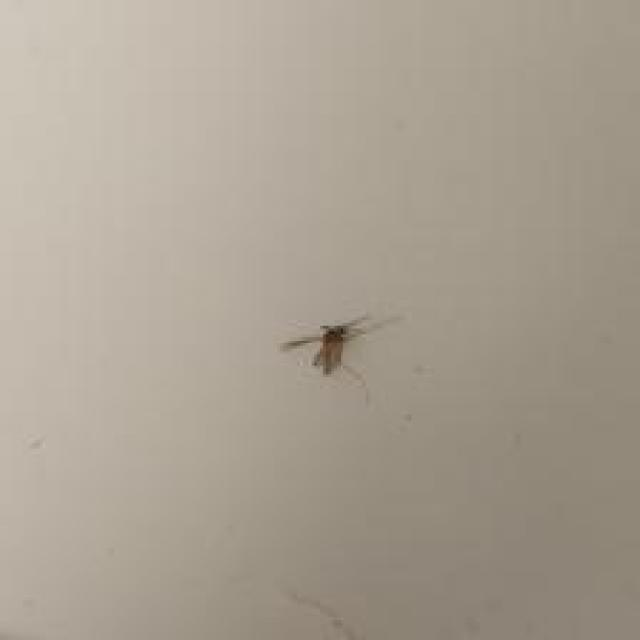Culex: (278, 310, 402, 390)
